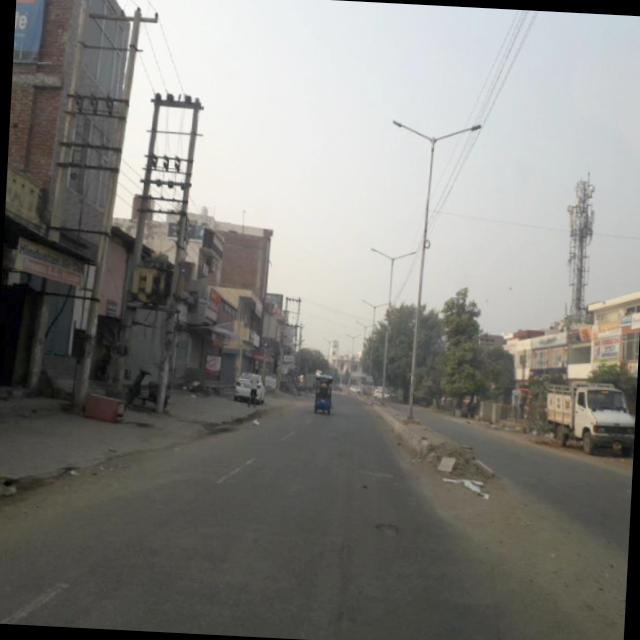pothole: (368, 515, 404, 541)
